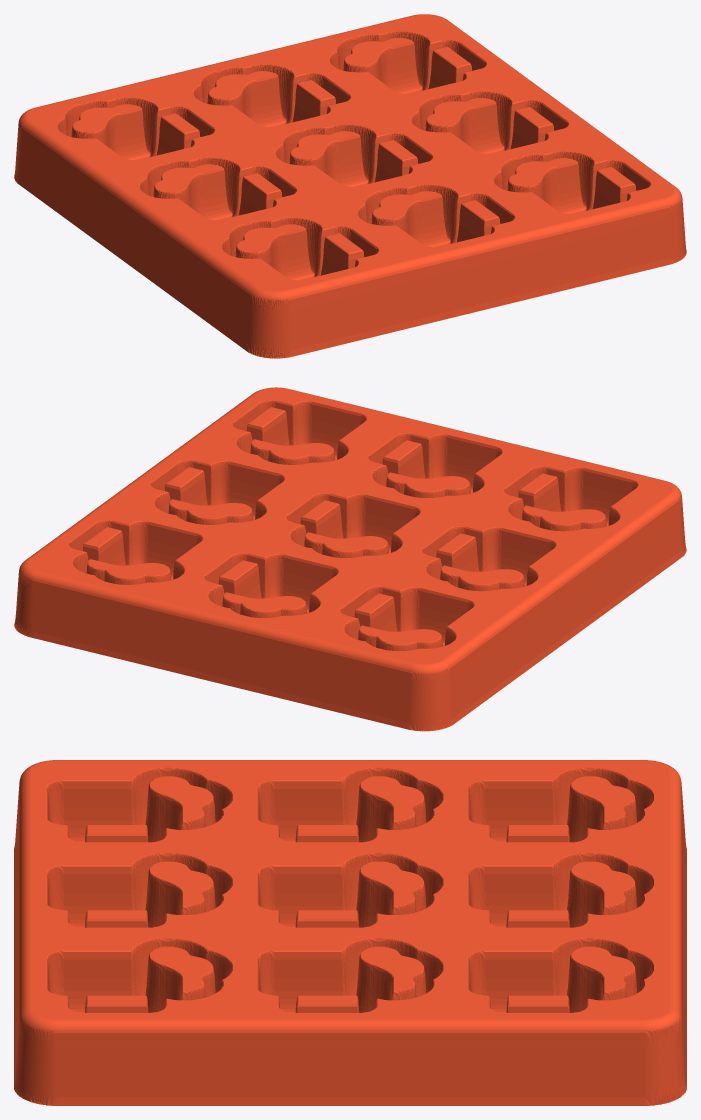
The model's file is mold.glb.
The picture shows the model from 3 angles, top to bottom: view 1: azimuth 30°, elevation 25°; view 2: azimuth 150°, elevation 25°; view 3: azimuth 270°, elevation 25°; orthographic projection. The views are drawn at different scales.
Parts seen in each view (by area): view 1: geometry_0; view 2: geometry_0; view 3: geometry_0.
Boxes of the visible parts, box(x1,y1,x2,y2) form: geometry_0: box(14, 14, 686, 358); geometry_0: box(14, 387, 686, 731); geometry_0: box(14, 760, 686, 1105).
Bounding box in the file's own units: 0.1345 × 0.0182 × 0.1402.
